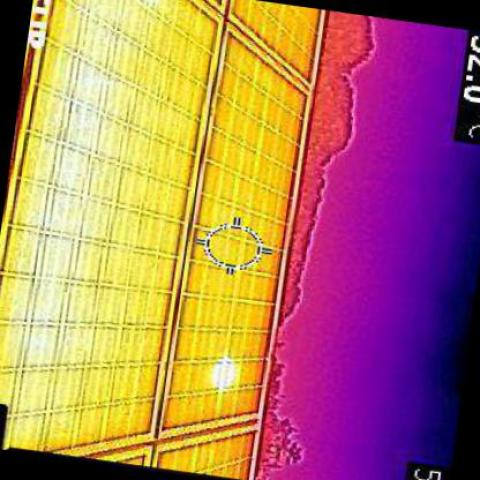fault: (215, 365, 234, 387)
